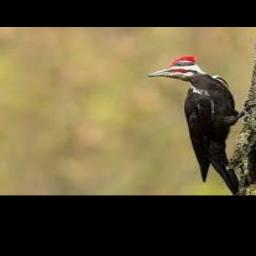Woodpecker: (148, 56, 256, 195)
